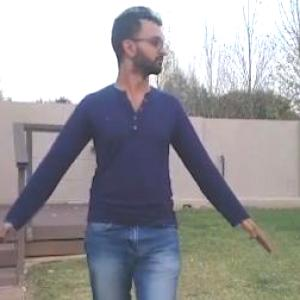land: (1, 13, 268, 299)
